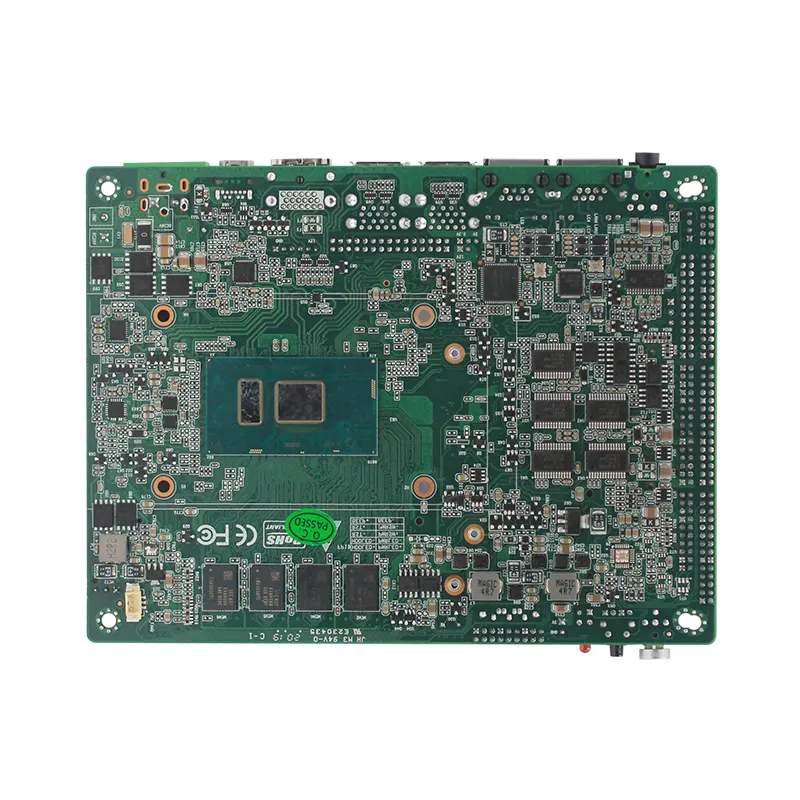Induktor: (98, 533, 128, 563), (547, 571, 577, 600), (471, 571, 500, 599)
